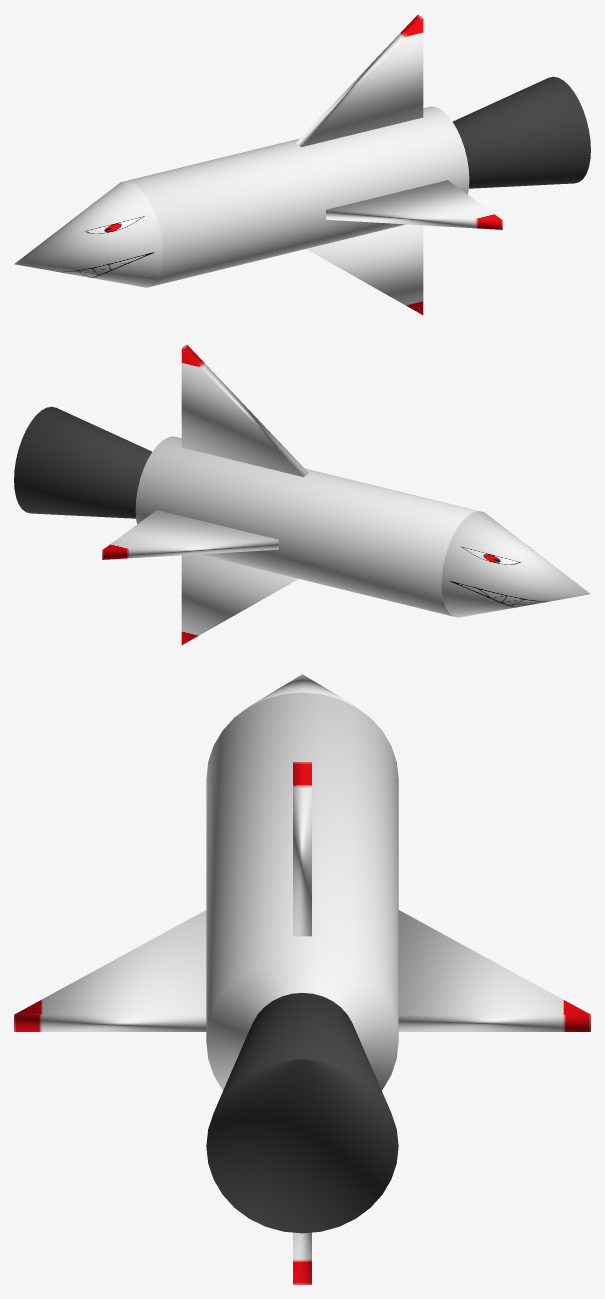
File: PlayerMissile(model).fbx
3 views of the same model, one above another, from view 1: azimuth 30°, elevation 25°; view 2: azimuth 150°, elevation 25°; view 3: azimuth 270°, elevation 25° (orthographic). The views are drawn at different scales.
Visible parts, largest first — view 1: Missile; view 2: Missile; view 3: Missile.
Part boxes in pixels (bbox=[...]): Missile: bbox=[14, 15, 590, 314]; Missile: bbox=[14, 345, 590, 644]; Missile: bbox=[14, 674, 590, 1284].
Bounding box in the file's own units: 116 × 60 × 60.
